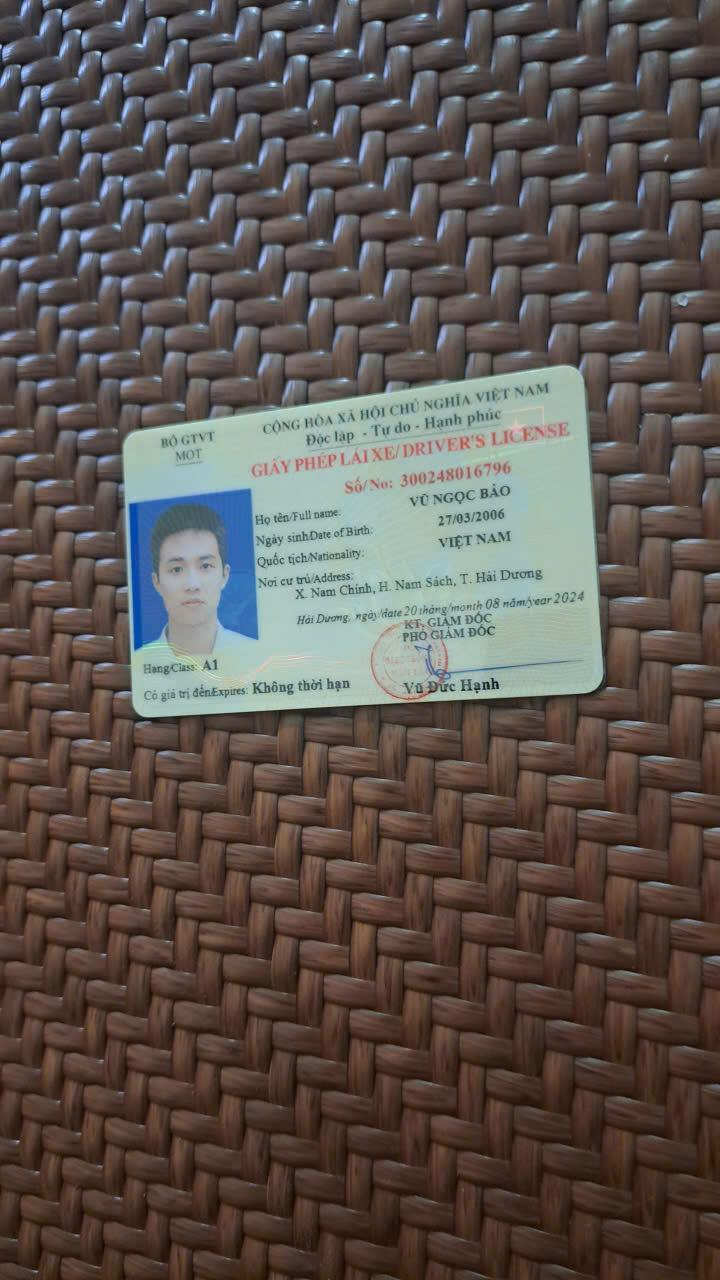gplx: (112, 355, 625, 730)
